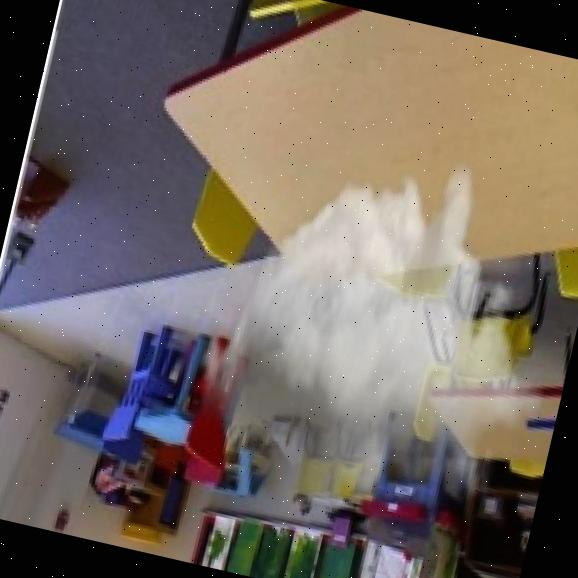smoke: (162, 110, 578, 578)
